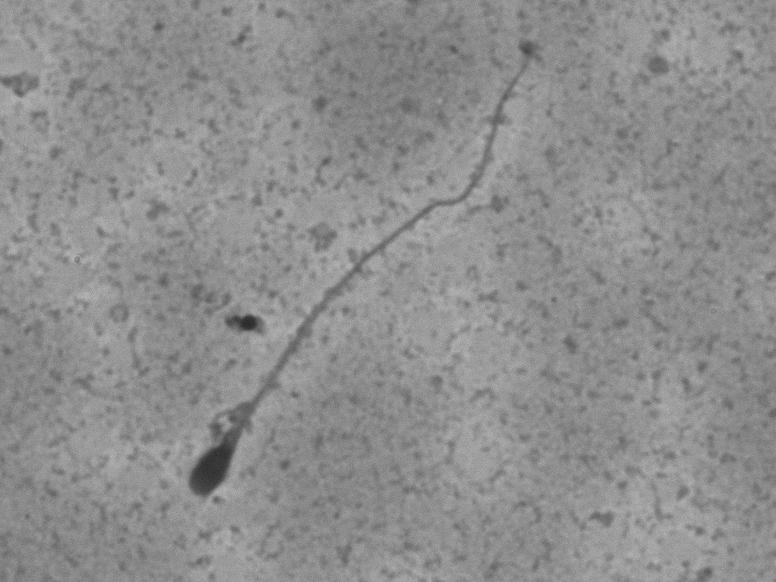Abnormal: (123, 108, 493, 559)
